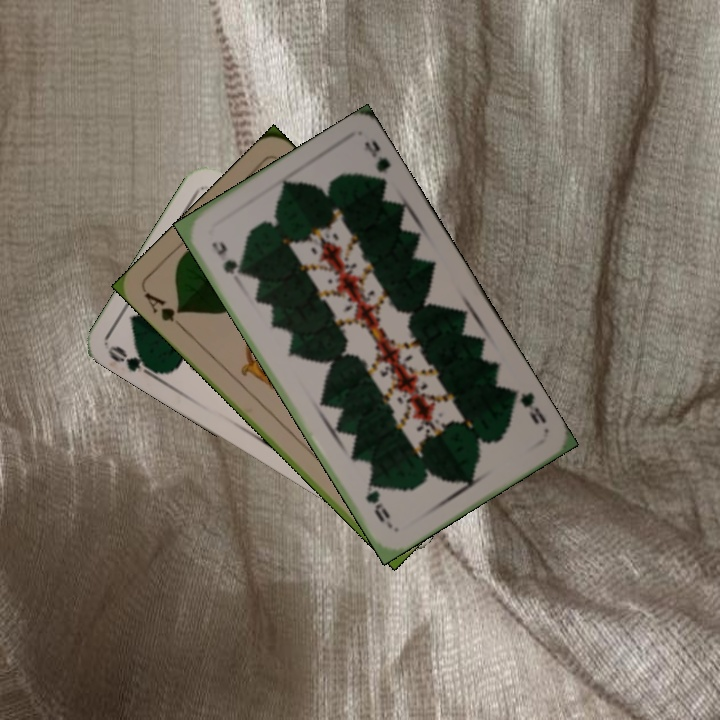G9: (506, 385, 549, 427), (207, 237, 244, 278)
GA: (140, 287, 188, 333)
GO: (105, 341, 163, 382)
